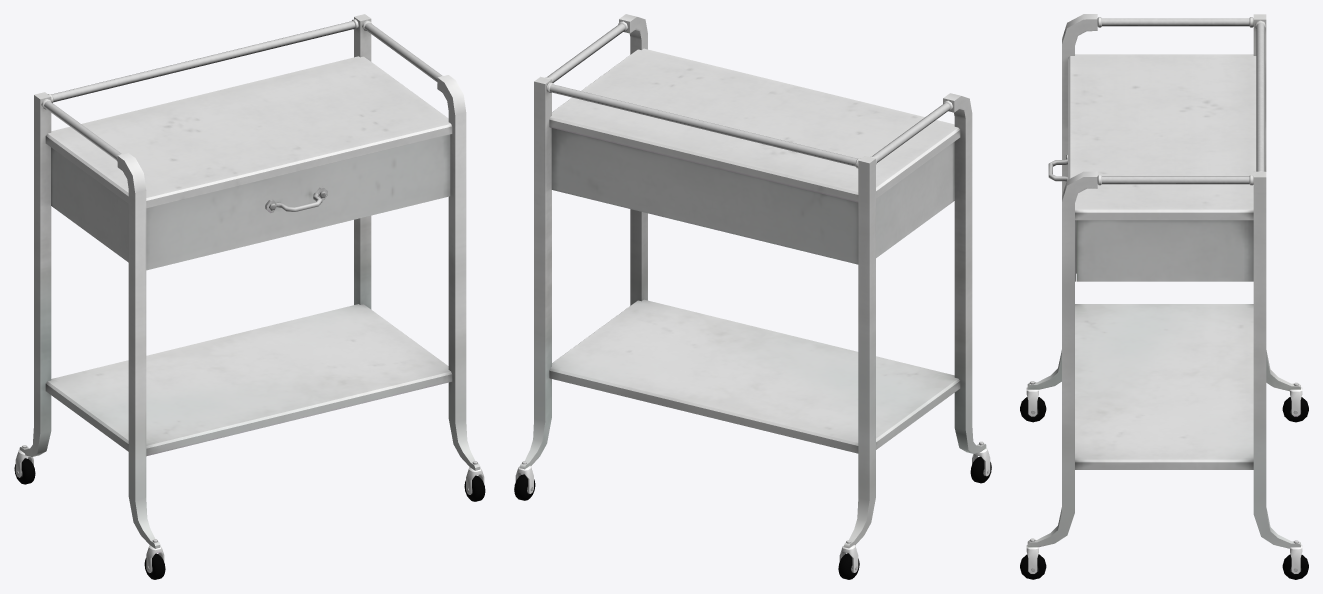
File: HospitalCabinet.FBX
3 renders of one model, left to right at view 1: azimuth 30°, elevation 25°; view 2: azimuth 150°, elevation 25°; view 3: azimuth 270°, elevation 25°, orthographic.
Visible parts, largest first — view 1: MobileTable1, MobileTable1_box; view 2: MobileTable1; view 3: MobileTable1, MobileTable1_wheel1, MobileTable1_wheel2, MobileTable1_wheel4, MobileTable1_wheel3, MobileTable1_box.
Part boxes in pixels (<box>): MobileTable1: <box>16,14,480,570</box>; MobileTable1_box: <box>146,134,450,270</box>; MobileTable1: <box>519,14,989,570</box>; MobileTable1: <box>1027,14,1300,571</box>; MobileTable1_wheel1: <box>1282,387,1308,422</box>; MobileTable1_wheel2: <box>1020,387,1046,422</box>; MobileTable1_wheel4: <box>1282,544,1308,579</box>; MobileTable1_wheel3: <box>1020,545,1046,579</box>; MobileTable1_box: <box>1048,154,1076,281</box>.
Size of the model in its own units: 85.47 by 97.77 by 63.34.
